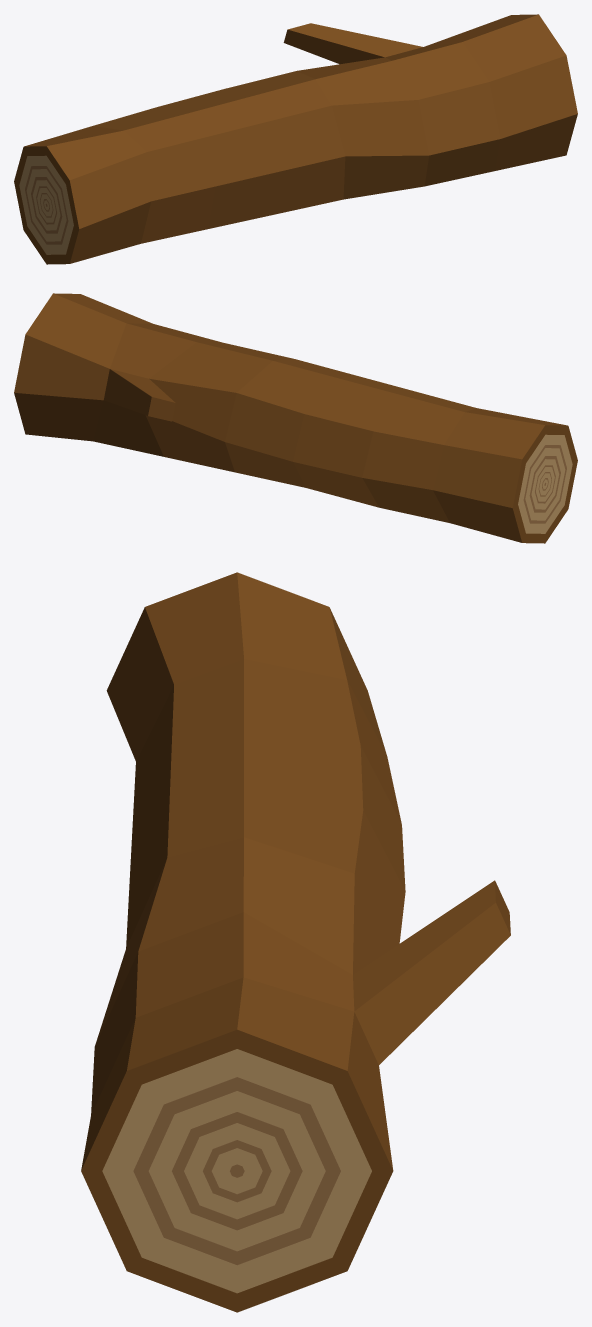
Rendered from Log2.fbx.
3 views of the same model, one above another, from view 1: azimuth 30°, elevation 25°; view 2: azimuth 150°, elevation 25°; view 3: azimuth 270°, elevation 25° (orthographic). The views are drawn at different scales.
Visible parts, largest first — view 1: Cylinder.008; view 2: Cylinder.008; view 3: Cylinder.008.
Boxes of the visible parts, <box> form: Cylinder.008: <box>14,14,577,264</box>; Cylinder.008: <box>14,293,577,543</box>; Cylinder.008: <box>81,572,510,1312</box>.
Size of the model in its own units: 518 by 142 by 196.
